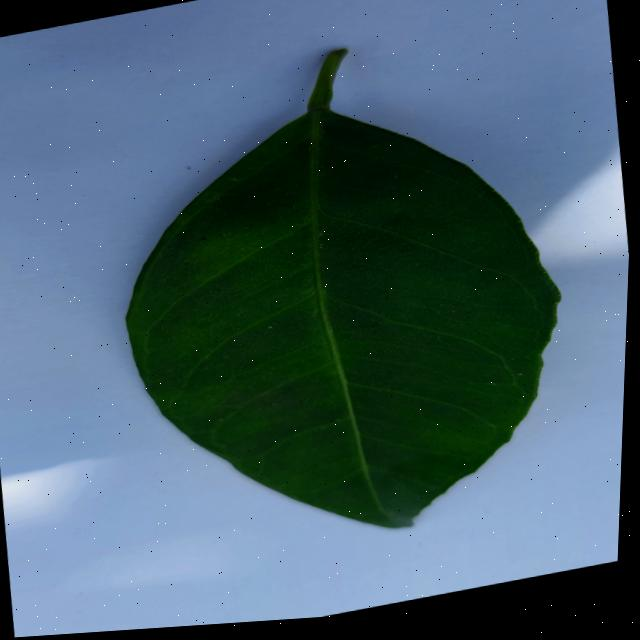greening: (125, 50, 557, 528)
